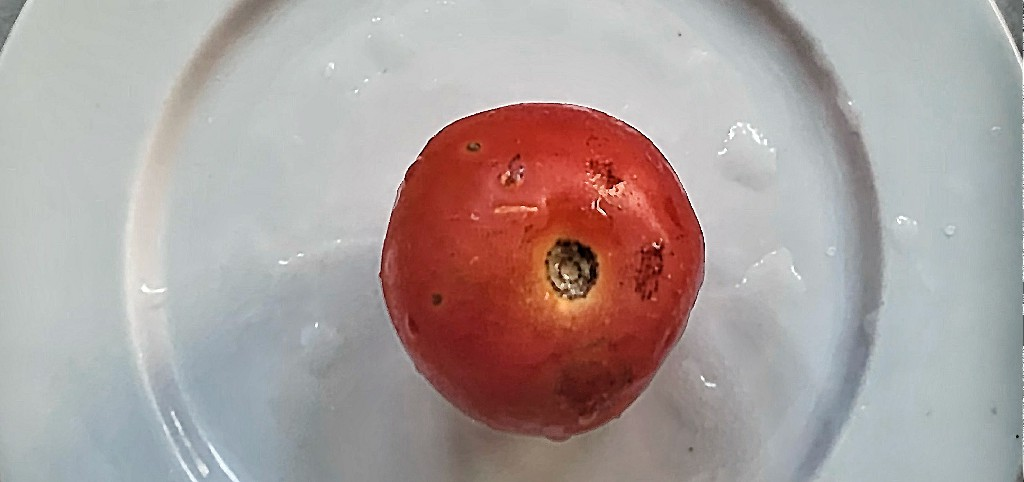NG: (376, 98, 695, 443)
